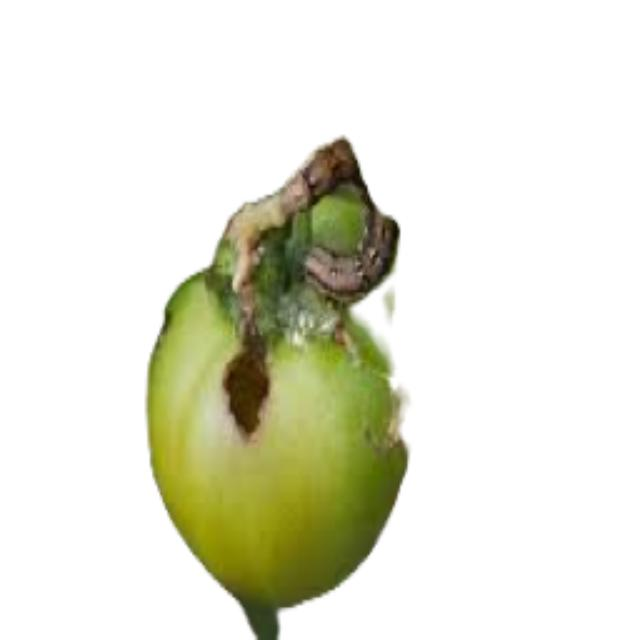defect: (141, 130, 413, 640)
